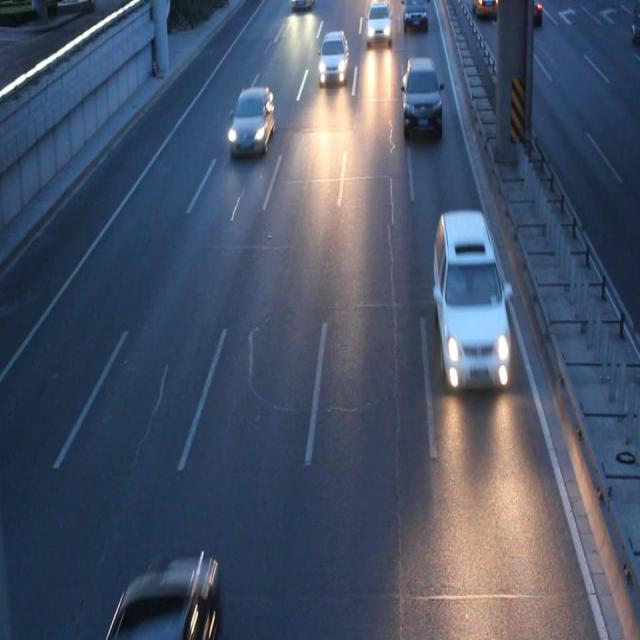car: (120, 560, 216, 640), (402, 57, 441, 130), (230, 88, 272, 149), (319, 34, 347, 80), (366, 1, 390, 40), (514, 1, 540, 25), (471, 1, 498, 17), (291, 1, 313, 11)
truck: (432, 212, 507, 388), (402, 1, 427, 25)
